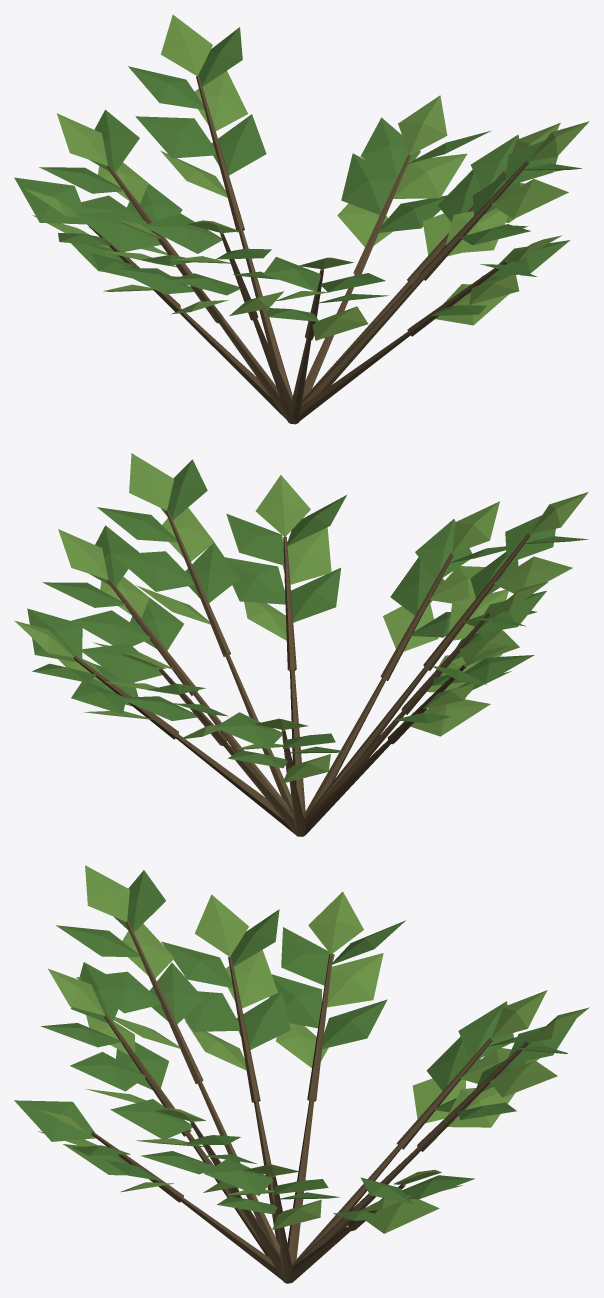
Rendered from shrub_lod0.gltf.
The picture shows the model from 3 angles, top to bottom: view 1: azimuth 30°, elevation 25°; view 2: azimuth 150°, elevation 25°; view 3: azimuth 270°, elevation 25°; orthographic projection. The views are drawn at different scales.
Parts seen in each view (by area): view 1: shrub_original_lod0; view 2: shrub_original_lod0; view 3: shrub_original_lod0.
Boxes of the visible parts, x1,y1,x2,y2 form: shrub_original_lod0: (14, 14, 589, 424); shrub_original_lod0: (14, 453, 588, 836); shrub_original_lod0: (14, 865, 589, 1283).
Bounding box in the file's own units: 1.05 × 0.65 × 1.05.
